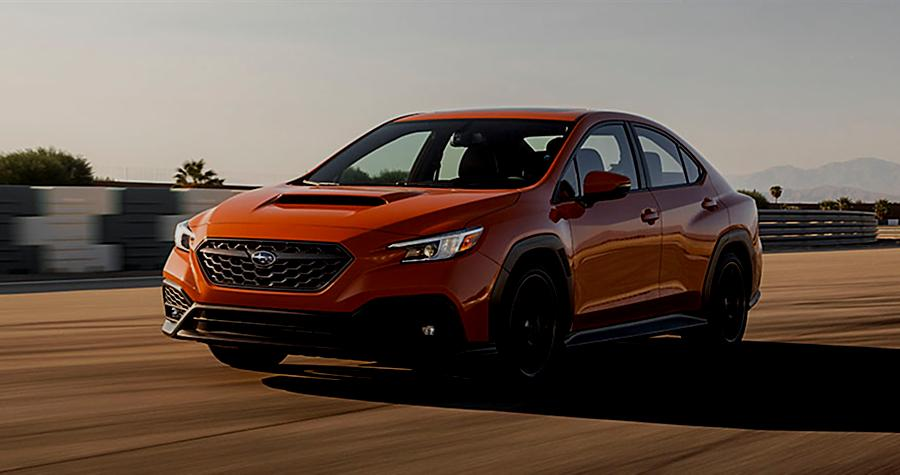subaru: (245, 246, 283, 272)
